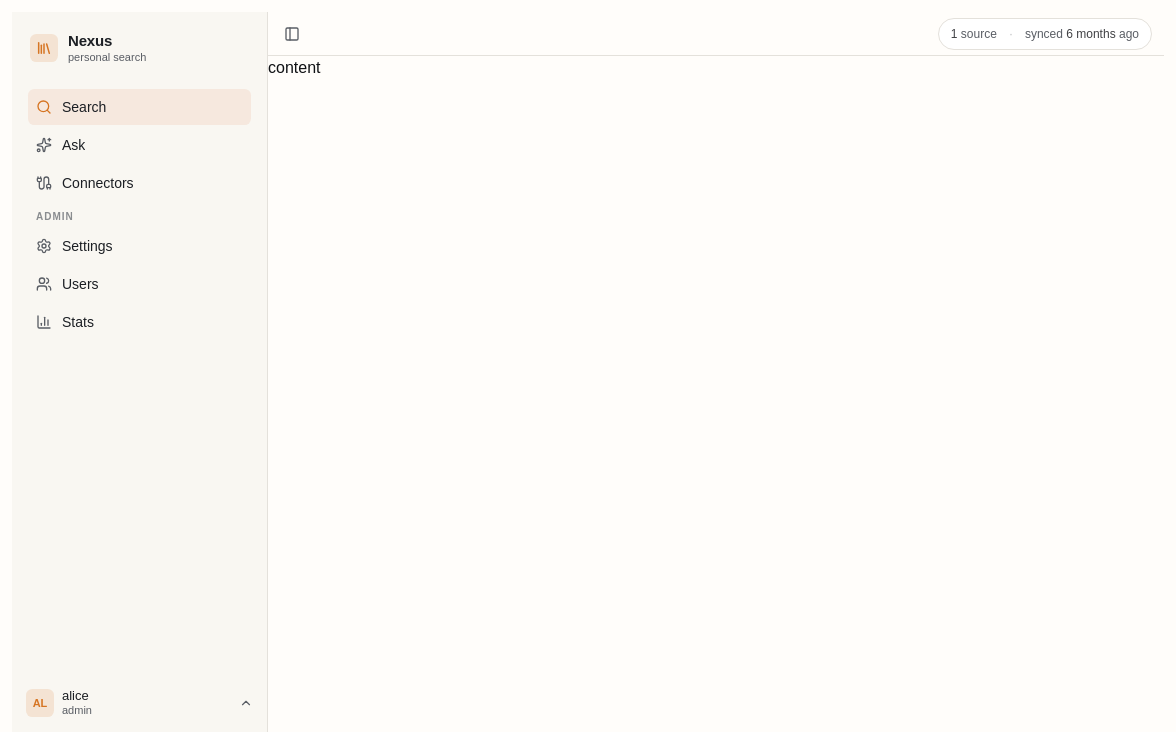
AppShell › opens the user-card popover with theme options and sign-out
expect the text "alice" is shown: met, box [62,688,89,703]
Click the button "AL alice admin": click(140, 703) [20,682,259,724]
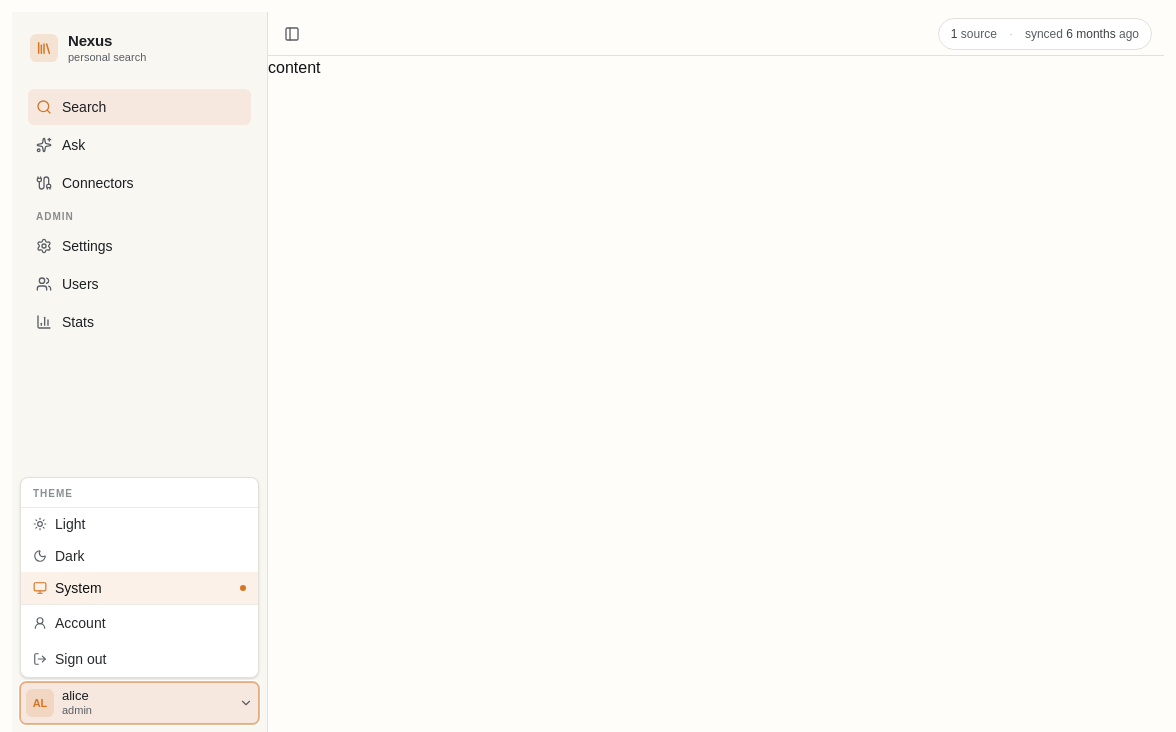
expect the menu item "Light" is shown: met, box [21,508,258,540]
expect the menu item "Dark" is shown: met, box [21,540,258,572]
expect the menu item "System" is shown: met, box [21,572,258,604]
